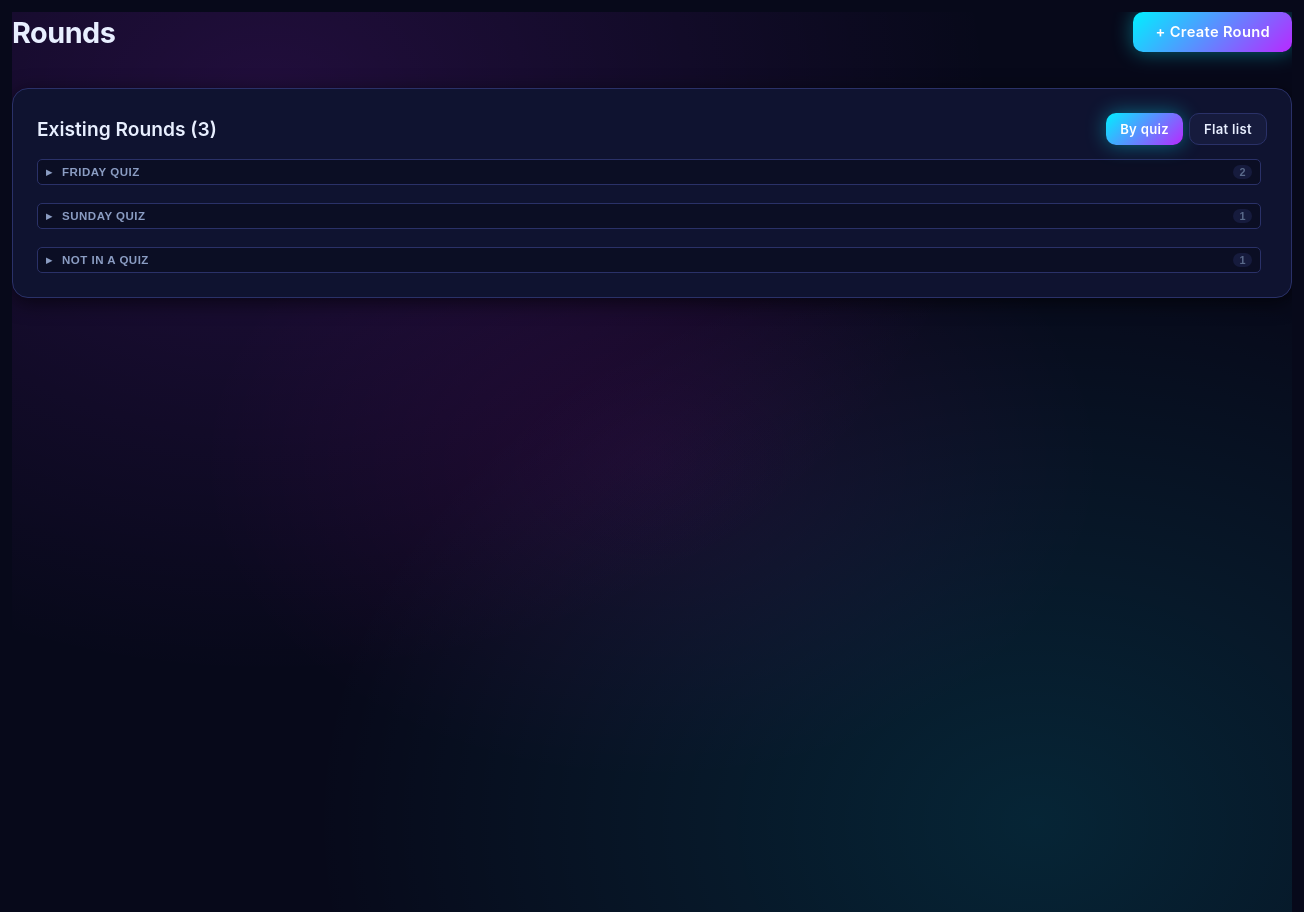
Test case: RoundBuilder — rounds grouped by quiz › Flat list shows every round once with no group headers
Expected: the button "▸ Friday Quiz 2" is shown, [37, 159, 1261, 185]
Click the button "Flat list" at x=1228, y=129, box [1189, 113, 1267, 145]
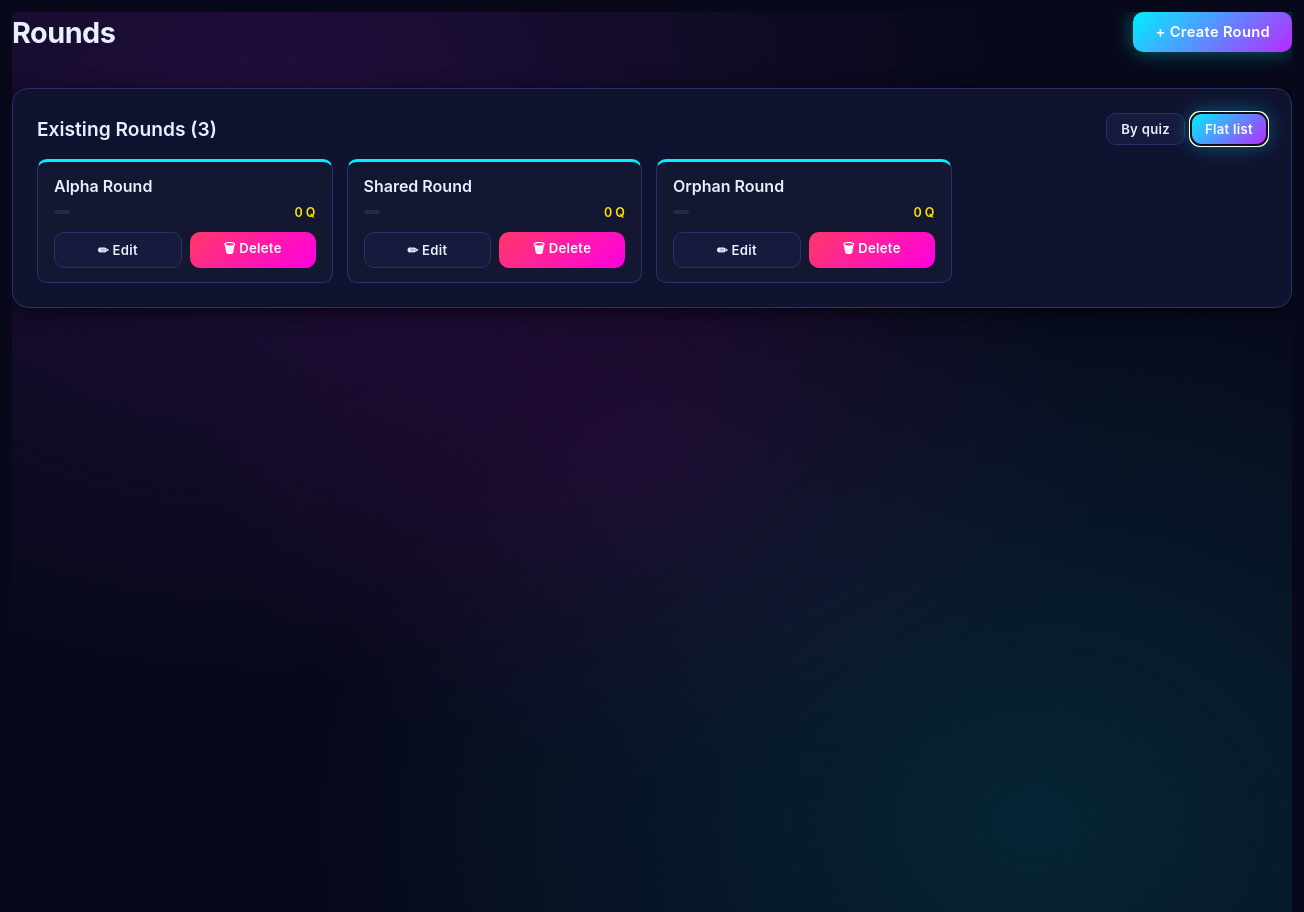
Expected: the button "Friday Quiz" is gone
Expected: the button "Not in a quiz" is gone
Expected: the heading "Alpha Round" is shown, [54, 176, 152, 196]
